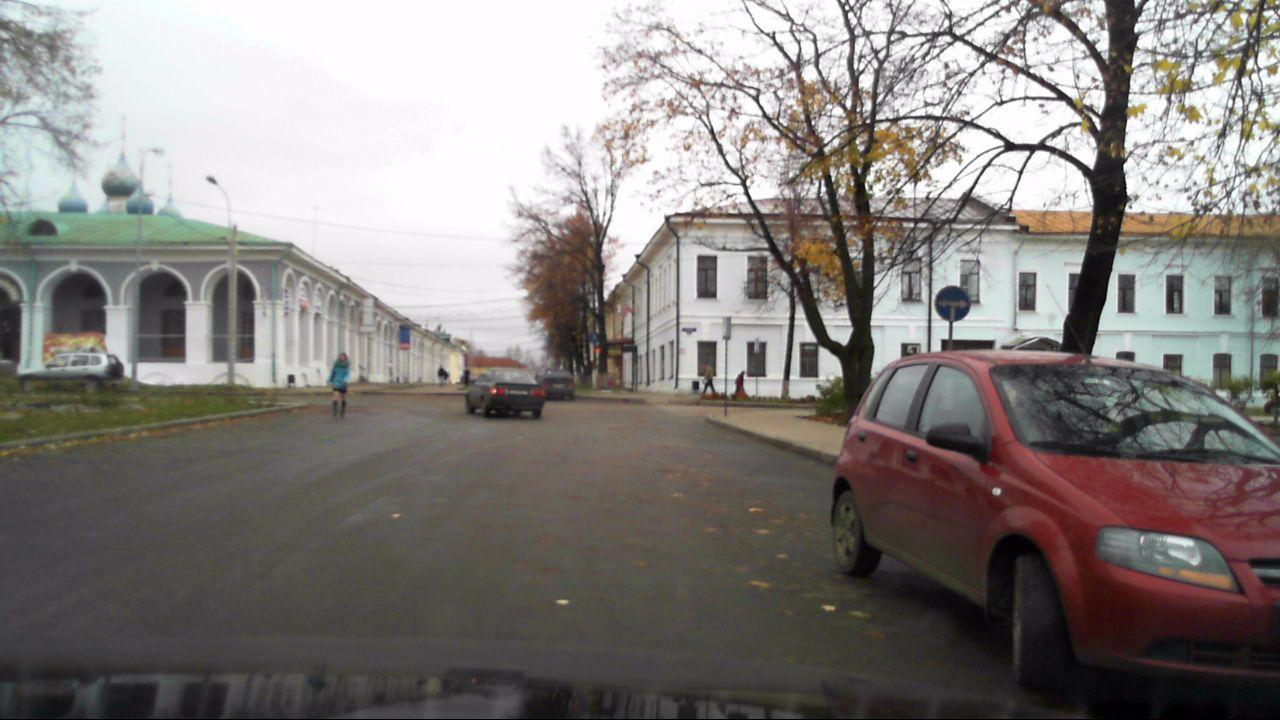4_1_6: (933, 285, 975, 327)
4_5_1: (590, 331, 599, 343)
